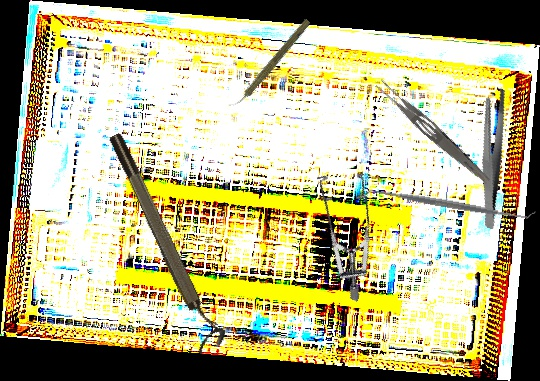Dressing Forceps: (372, 76, 496, 187), (448, 85, 536, 230)
Fixation Ring: (104, 126, 230, 355)
Handpiece: (227, 15, 313, 114)
Spatula Surgical: (363, 180, 537, 228)
Speculum: (274, 155, 411, 303)
